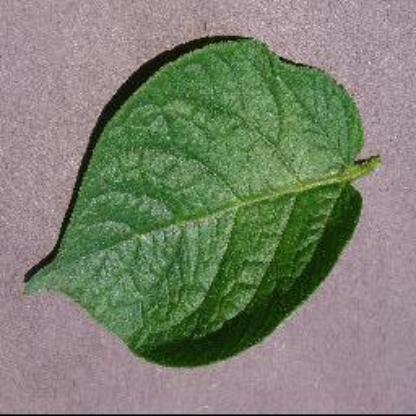Healthy-plant: (22, 29, 382, 367)
